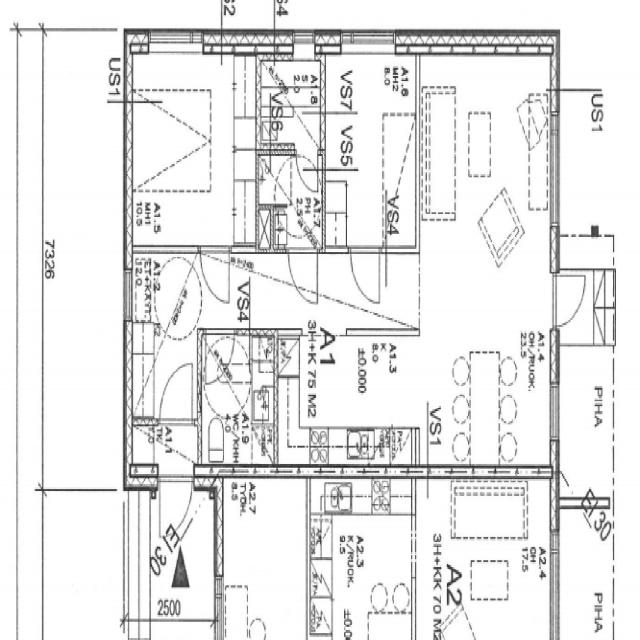door: (157, 356, 197, 431), (156, 472, 195, 548), (348, 242, 386, 308), (550, 267, 588, 331), (284, 242, 320, 306), (199, 243, 233, 309), (203, 330, 237, 387), (295, 150, 321, 195)
window: (145, 23, 206, 57), (545, 122, 563, 230), (341, 25, 397, 54), (548, 530, 562, 636), (547, 376, 562, 446), (121, 260, 136, 326), (291, 25, 317, 49), (229, 460, 260, 479)
zone: (126, 43, 255, 249), (324, 46, 417, 249), (449, 477, 554, 640), (310, 480, 415, 640), (218, 474, 310, 640), (556, 277, 615, 511), (200, 330, 269, 467), (557, 502, 614, 640), (129, 249, 206, 349), (258, 42, 324, 158), (420, 77, 459, 224)
